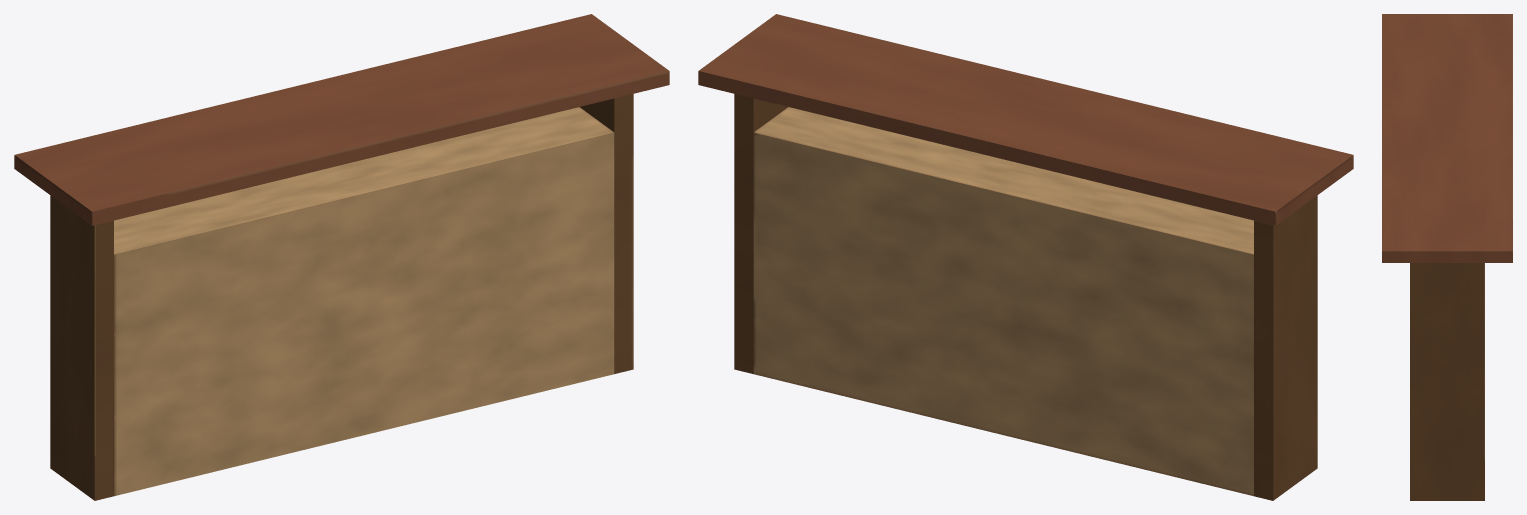
Rendered from drivi_bea240e1.glb.
3 views of the same model, side by side, from view 1: azimuth 30°, elevation 25°; view 2: azimuth 150°, elevation 25°; view 3: azimuth 270°, elevation 25° (orthographic). The views are drawn at different scales.
Parts seen in each view (by area): view 1: dum; view 2: dum; view 3: dum.
Boxes of the visible parts, bbox=[...] form: dum: bbox=[14, 14, 669, 500]; dum: bbox=[698, 14, 1353, 500]; dum: bbox=[1382, 14, 1512, 500].
Size of the model in its own units: 2.99 by 1.52 by 0.6983.
Materials: 1 (1 with a texture image).
